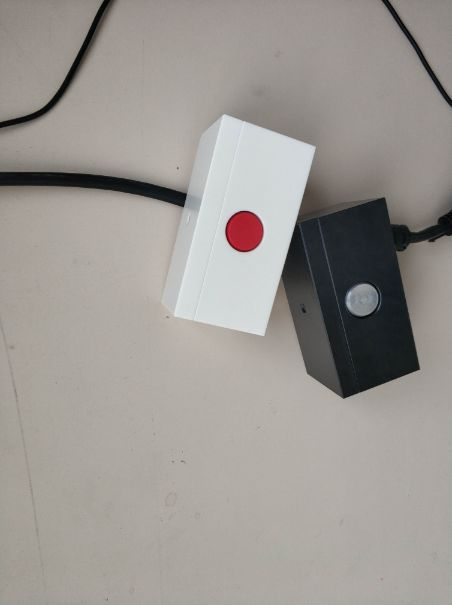black+black+silver: (277, 197, 427, 397)
white+white+red: (155, 115, 320, 341)
